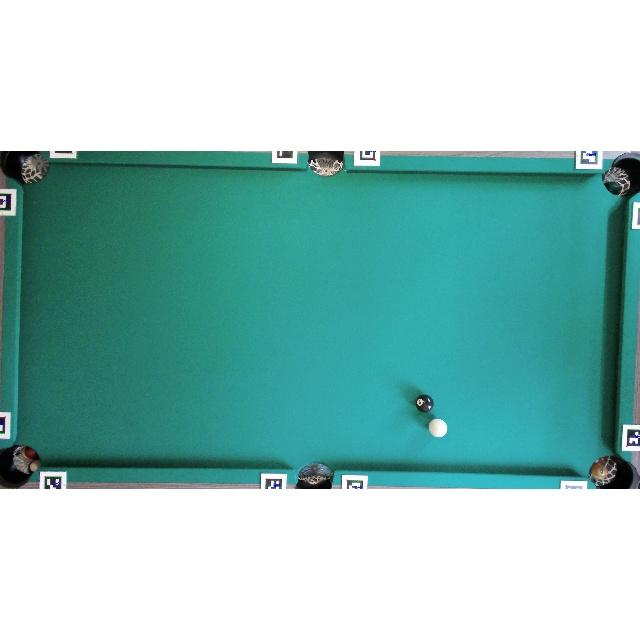cue ball: (428, 418, 448, 438)
other: (415, 394, 434, 414), (591, 463, 608, 480)
